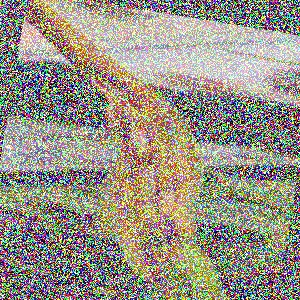Brown_Spot: (80, 81, 159, 169), (121, 227, 179, 274), (147, 212, 202, 258)
